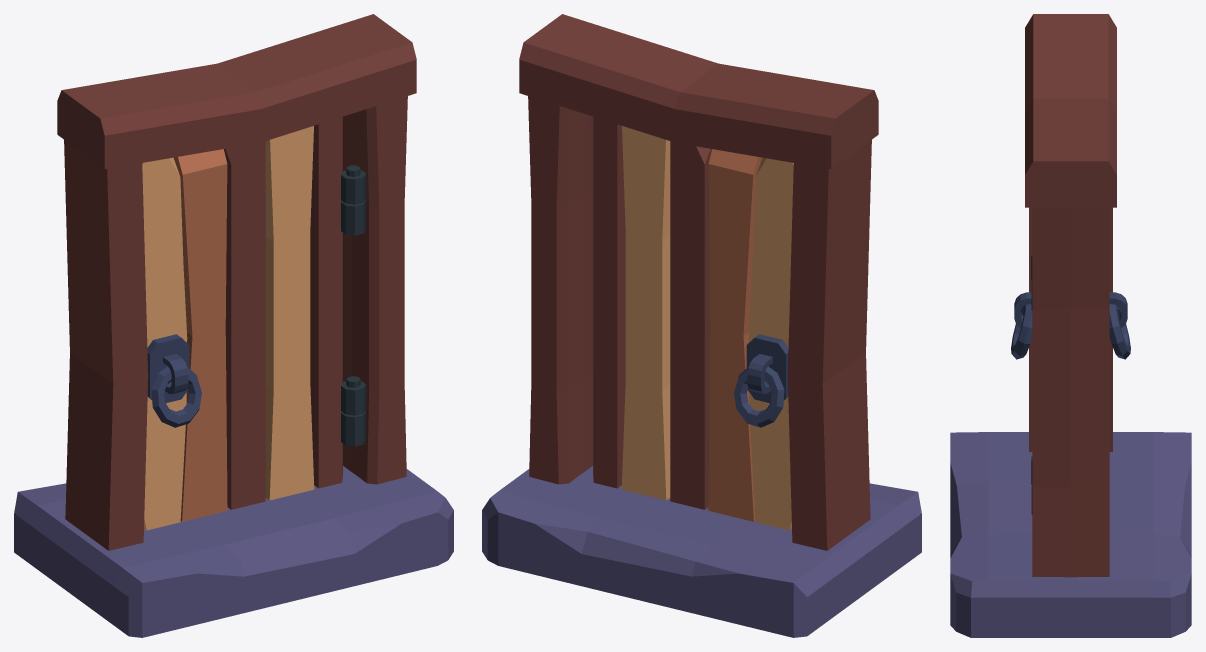
Rendered from Building_Doors_01.fbx.
3 renders of one model, left to right at view 1: azimuth 30°, elevation 25°; view 2: azimuth 150°, elevation 25°; view 3: azimuth 270°, elevation 25°, orthographic. The views are drawn at different scales.
Parts seen in each view (by area): view 1: Building_Door_01, Building_Door_02_1.001; view 2: Building_Door_01, Building_Door_02_1.001; view 3: Building_Door_01, Building_Door_02_1.001.
Boxes of the visible parts, bbox=[...] form: Building_Door_01: bbox=[14, 14, 453, 637]; Building_Door_02_1.001: bbox=[142, 116, 366, 530]; Building_Door_01: bbox=[482, 14, 921, 637]; Building_Door_02_1.001: bbox=[593, 116, 793, 530]; Building_Door_01: bbox=[950, 14, 1191, 637]; Building_Door_02_1.001: bbox=[1011, 252, 1130, 484].
Bounding box in the file's own units: 206 × 290 × 134.
